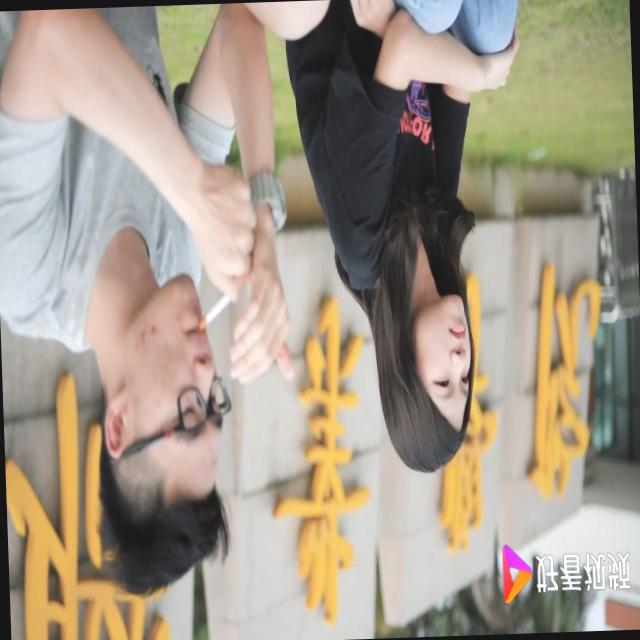smoke: (191, 272, 248, 343)
